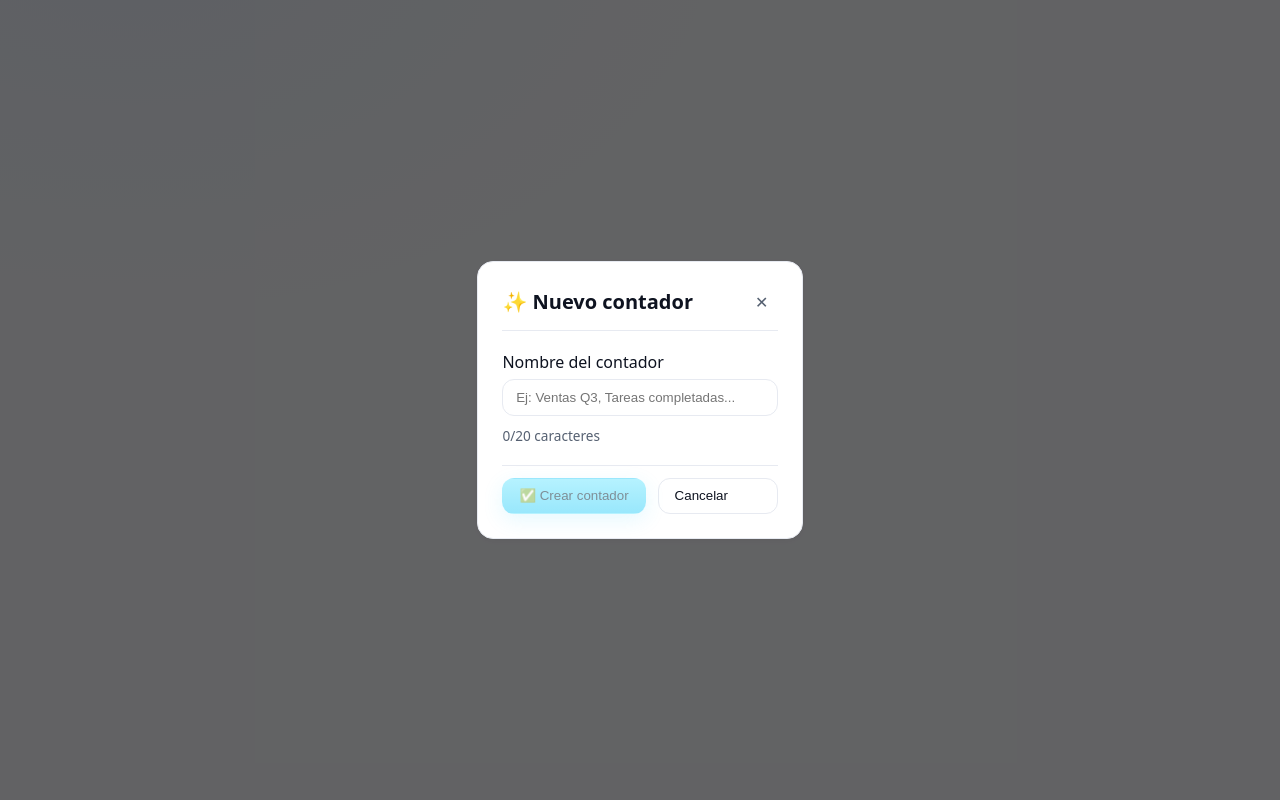
AddCounterModal Component › should disable confirm button with empty name
Type "Valid Name" into the field with id "add-name". click: (640, 398)
box: [502,380,778,416]
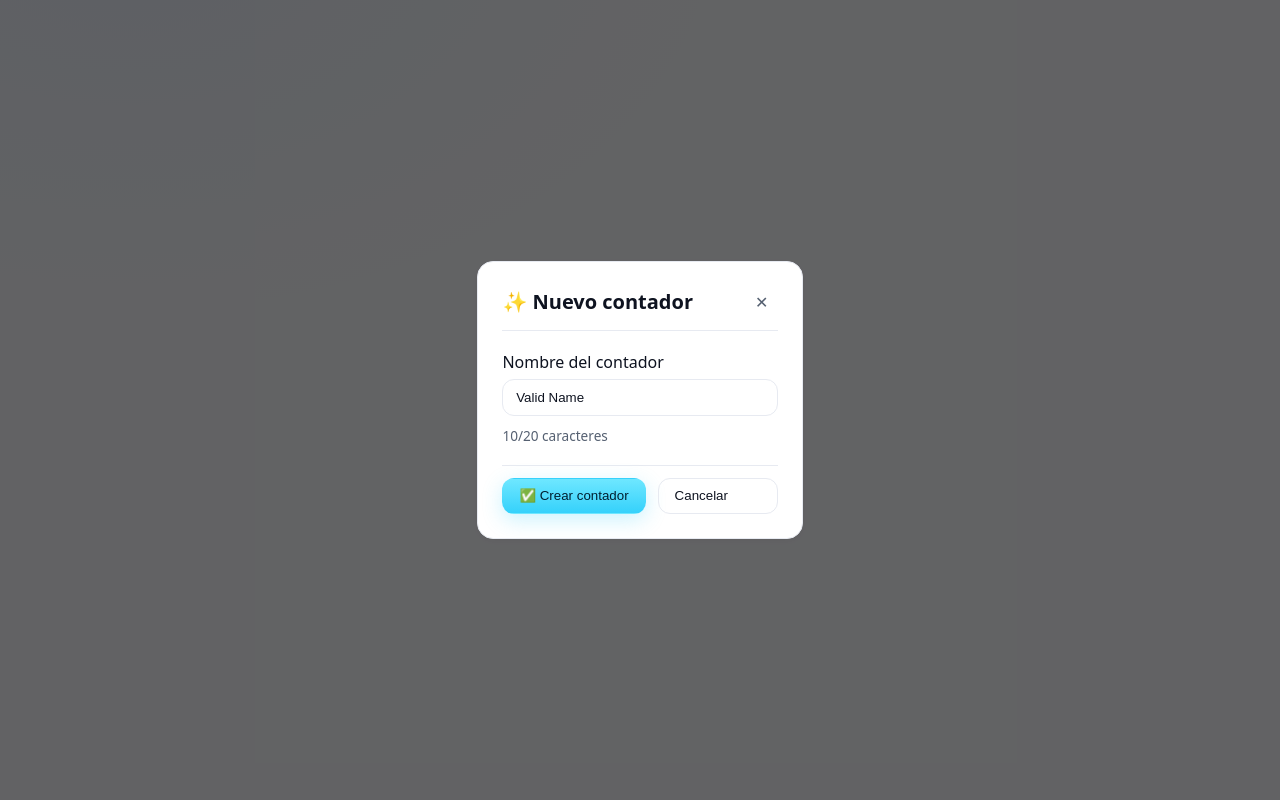
Clear the field with id "add-name". click: (640, 398)
box: [502,380,778,416]
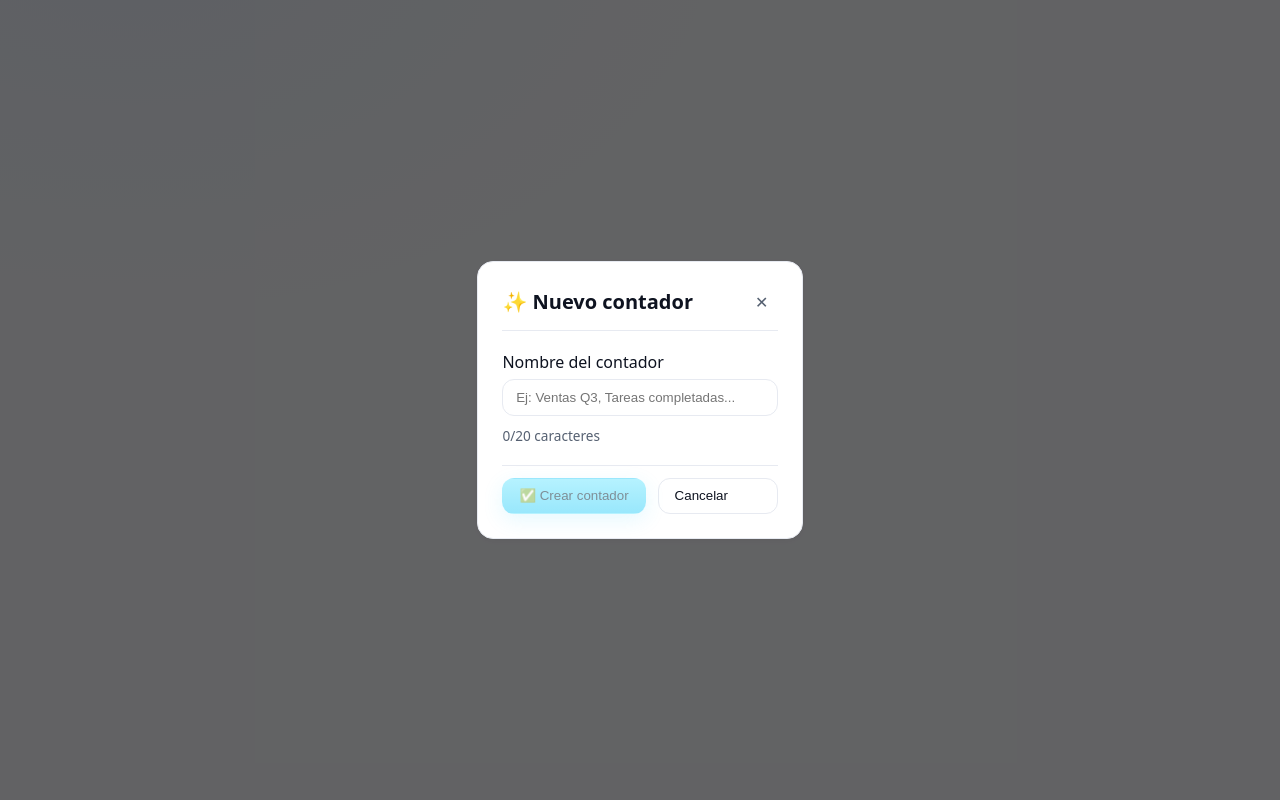
Expected: the button "✅ Crear contador" is disabled, [502,478,646,514]
